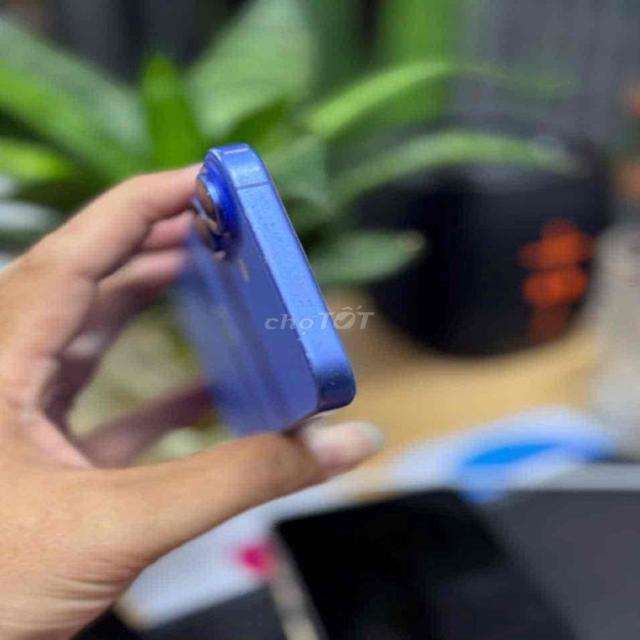scratch: (239, 189, 345, 395)
